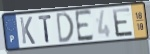4: (96, 9, 112, 40)
D: (55, 11, 75, 45)
E: (111, 7, 135, 39), (74, 8, 95, 44)
K: (18, 16, 36, 45)
T: (37, 14, 53, 44)
